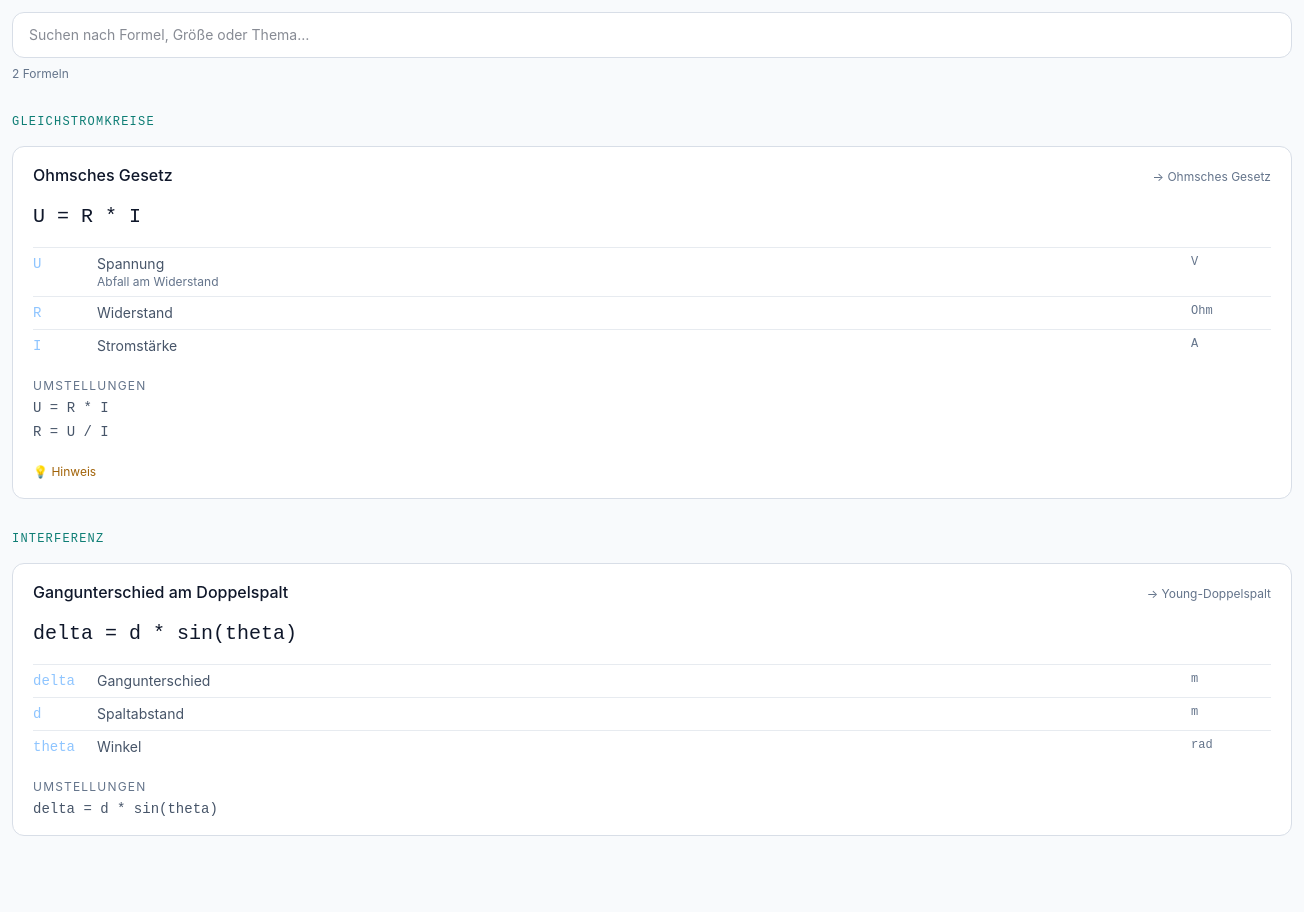
Formelliste › meldet, wenn die Suche nichts findet
Type "kernspin" into the search field labelled "Suchen nach Formel, Größe oder Thema…" at (652, 35), box [12,12,1292,58]
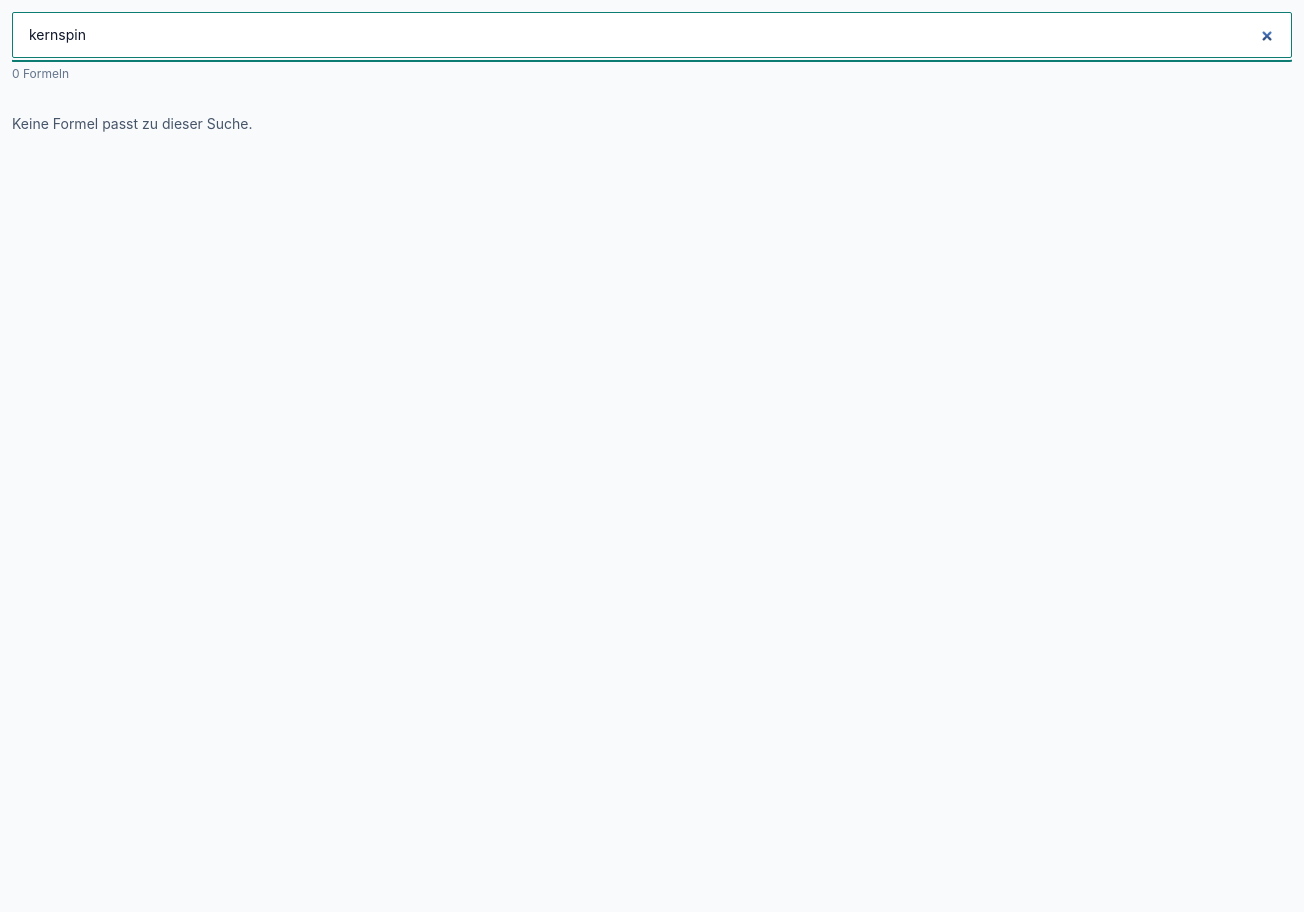
Check: the text "Keine Formel passt zu dieser Suche." is shown, box [12,115,253,132]
